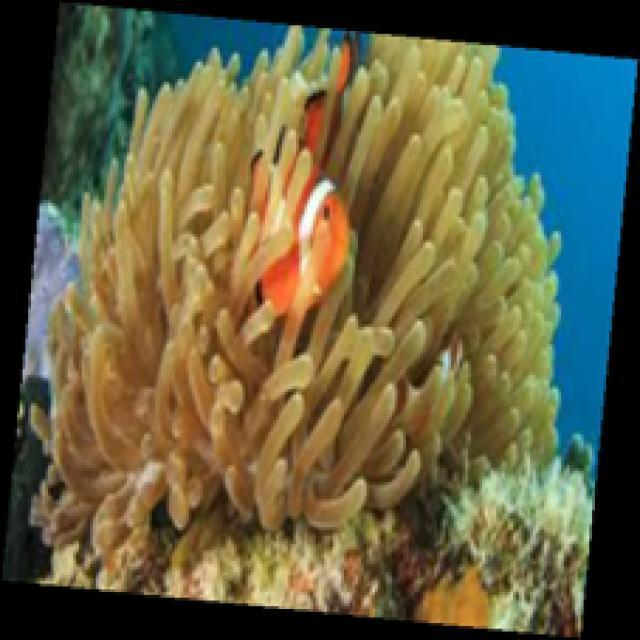Healthy: (33, 24, 563, 557)
